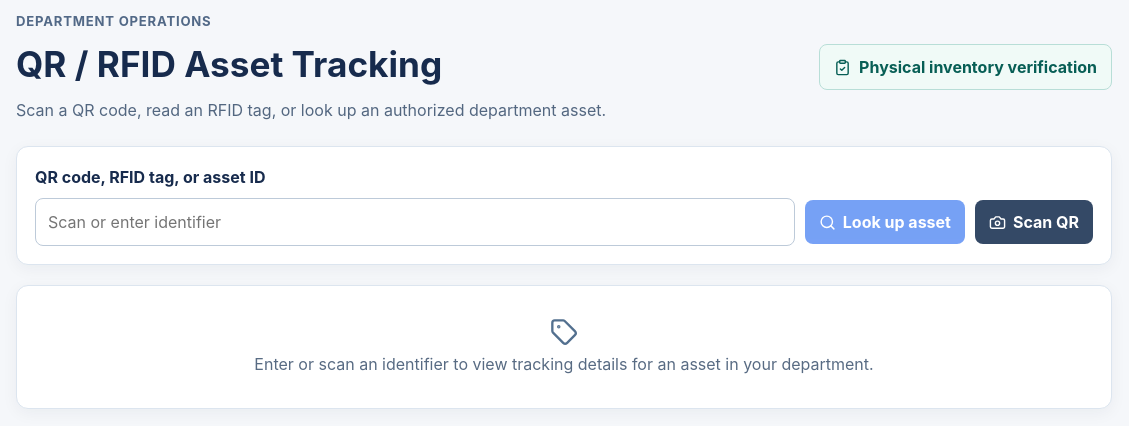
it: reports authorization-safe not-found results without requesting asset history
The width and height of the screenshot is (1129, 426).
In the field labelled "QR code, RFID tag, or asset ID": (415, 222) [35,198,795,246], type "EXTERNAL-ASSET"
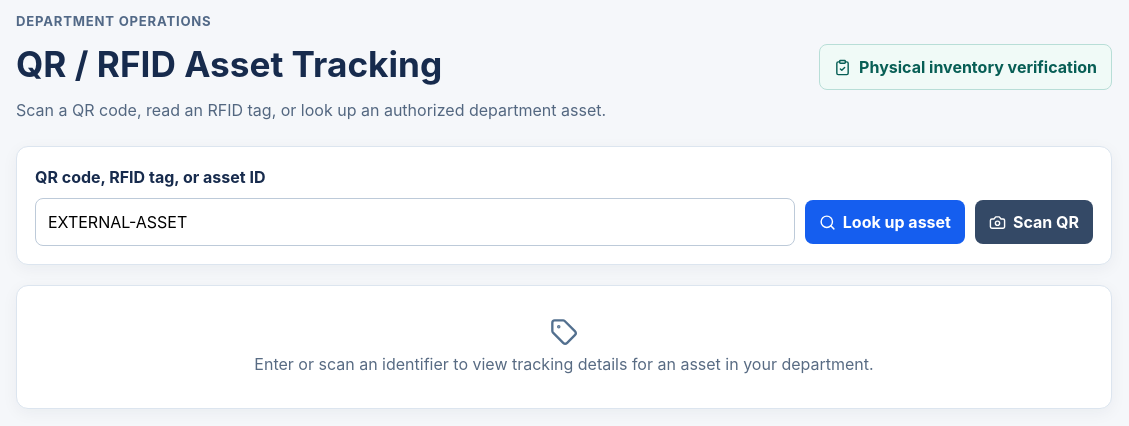
Click the button "Look up asset": (885, 222) [805,200,965,244]
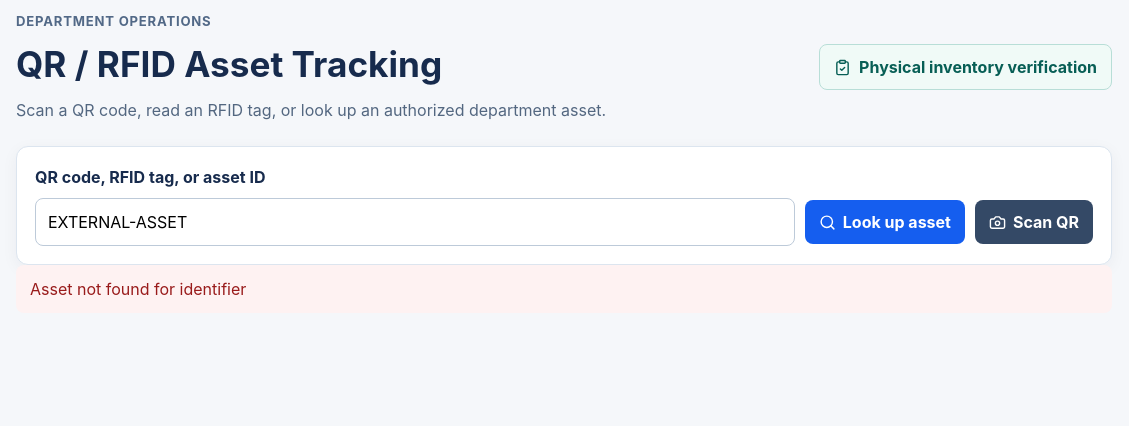
Expected: the message reads "Asset not found for identifier", [30,280,246,300]
